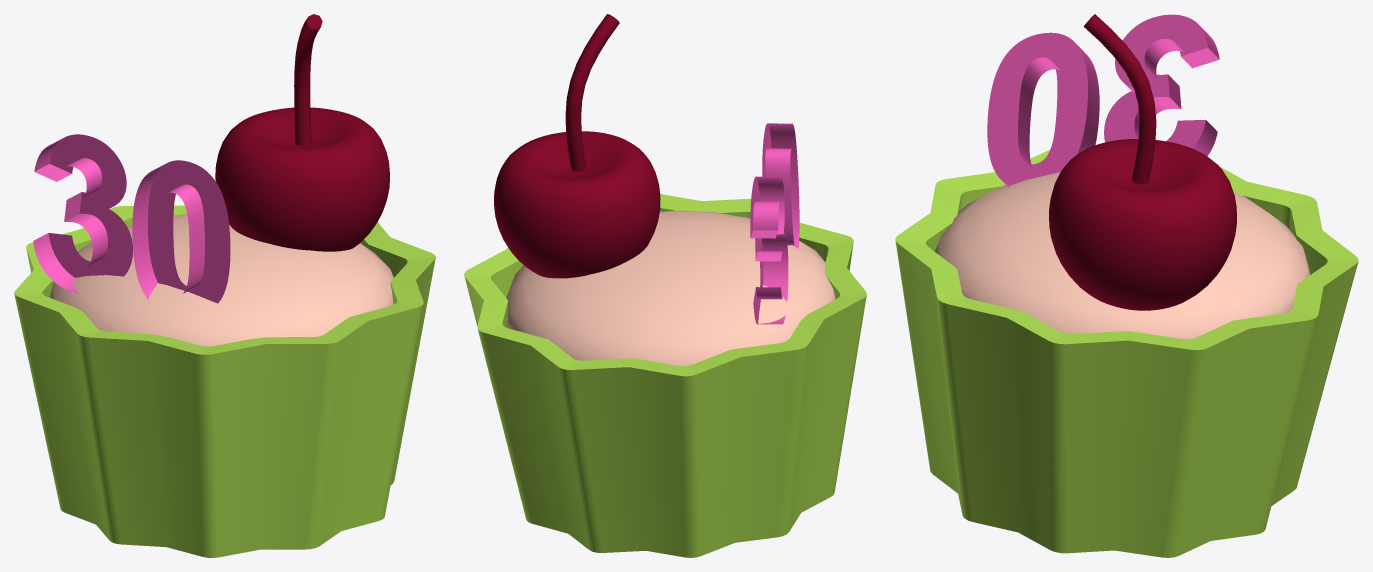
The model's file is cake12.glb.
3 views of the same model, side by side, from view 1: azimuth 30°, elevation 25°; view 2: azimuth 150°, elevation 25°; view 3: azimuth 270°, elevation 25° (orthographic). The views are drawn at different scales.
Size of the model in its own units: 0.301 by 0.384 by 0.314.
